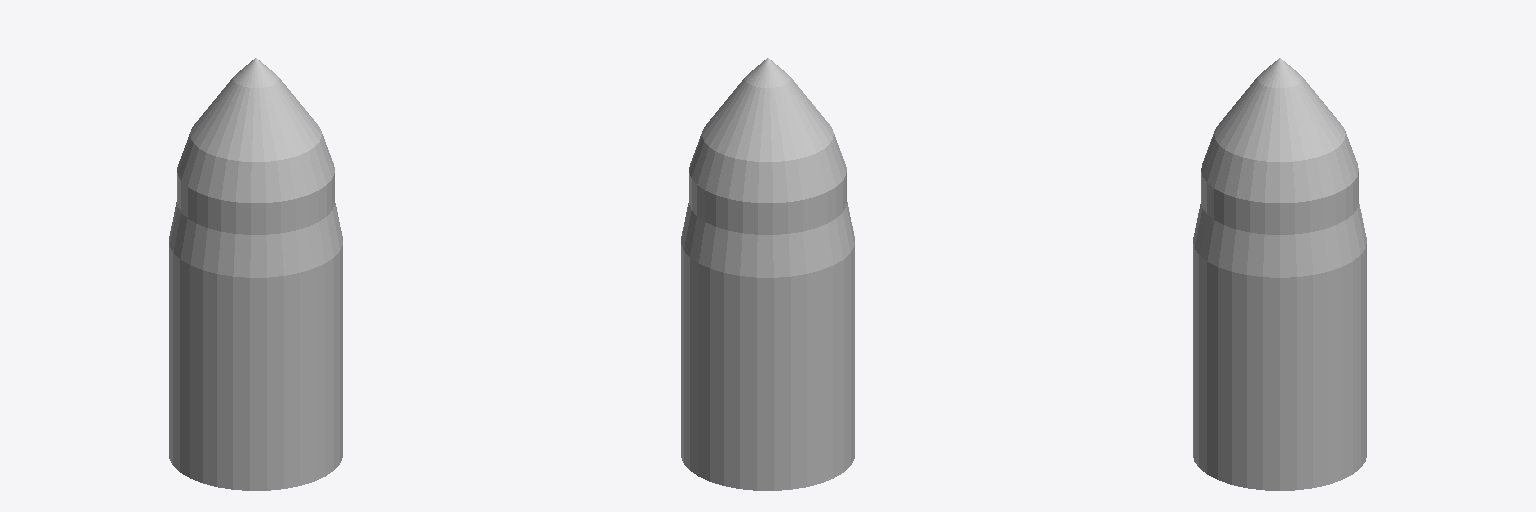
Rendered from Thruster Top.obj.
The picture shows the model from 3 angles: view 1: azimuth 30°, elevation 25°; view 2: azimuth 150°, elevation 25°; view 3: azimuth 270°, elevation 25°; orthographic projection.
Visible parts, largest first — view 1: Cylinder2_extract2; view 2: Cylinder2_extract2; view 3: Cylinder2_extract2.
Boxes of the visible parts, x1,y1,x2,y2 form: Cylinder2_extract2: [169, 58, 342, 490]; Cylinder2_extract2: [681, 58, 854, 490]; Cylinder2_extract2: [1193, 58, 1366, 490].
Size of the model in its own units: 11.87 by 29.76 by 11.87.